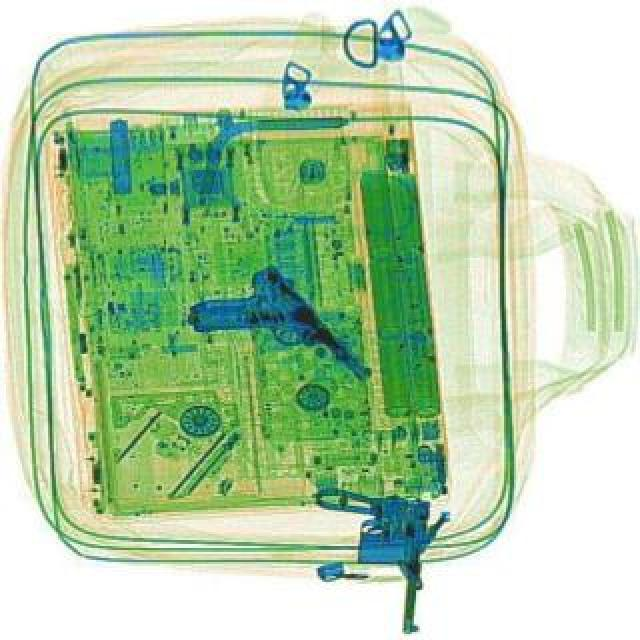gun: (178, 252, 370, 436), (298, 482, 430, 636)
